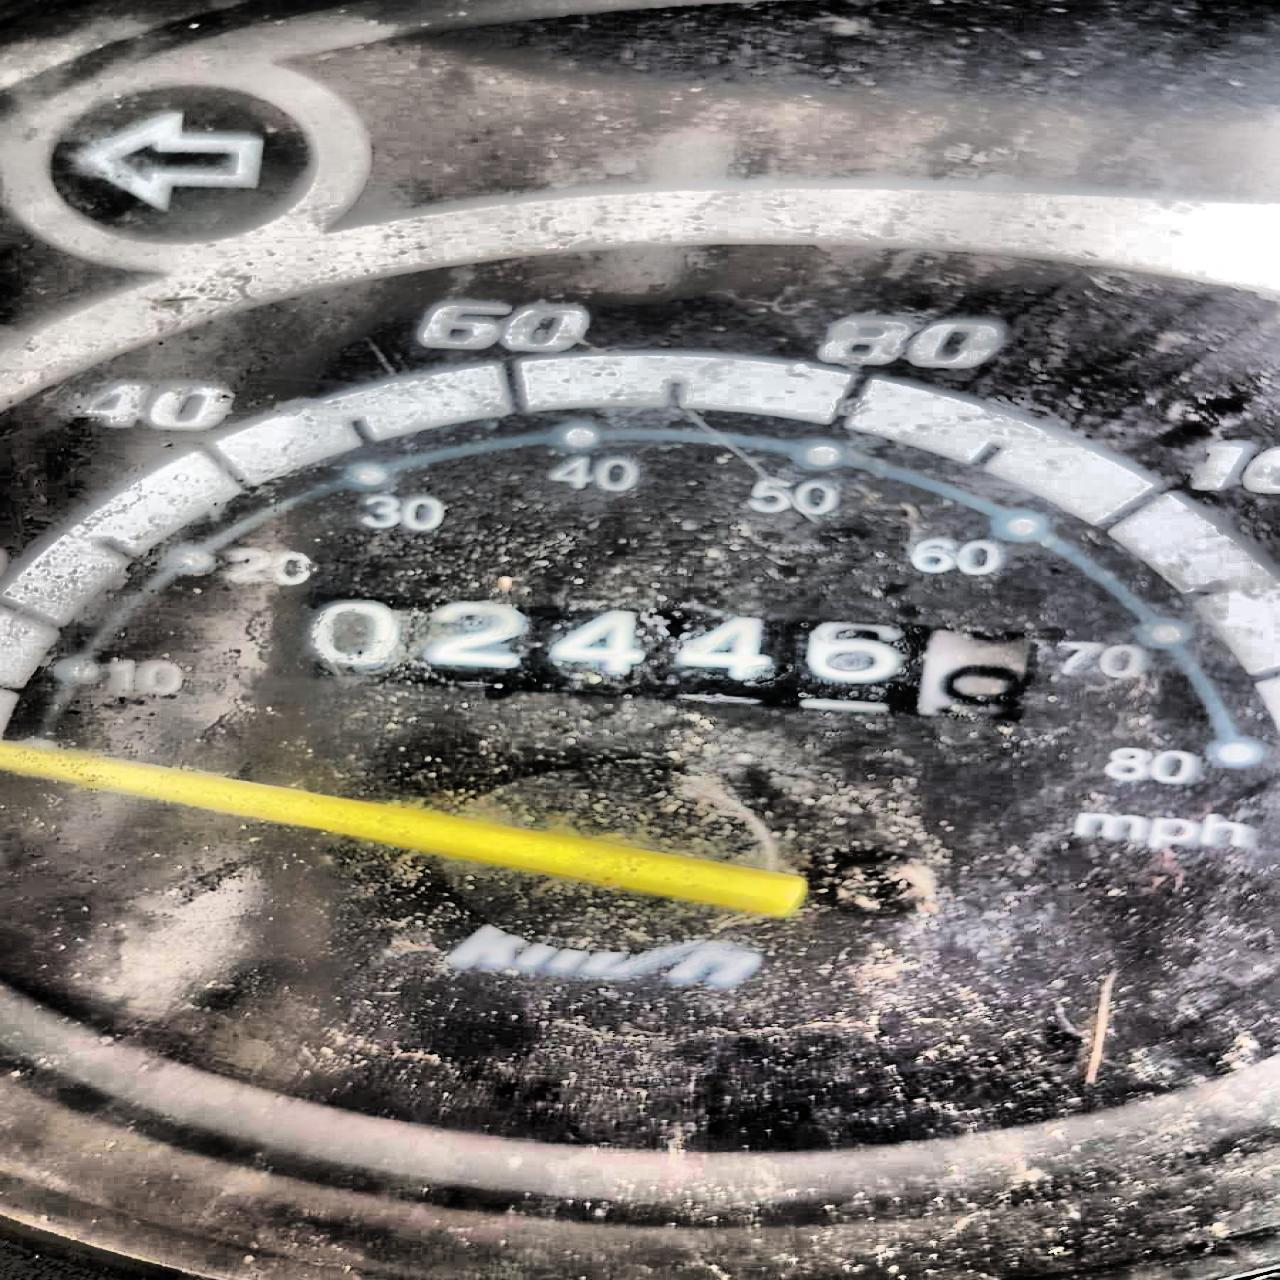0: (301, 597, 414, 678)
2: (429, 594, 527, 682)
4: (680, 606, 778, 688), (550, 605, 642, 678)
6: (797, 608, 907, 687)
9: (934, 654, 1036, 726)
odometer: (265, 581, 1053, 728)
